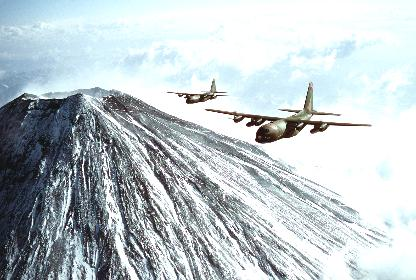Be200: (204, 80, 374, 142), (166, 77, 234, 103)
